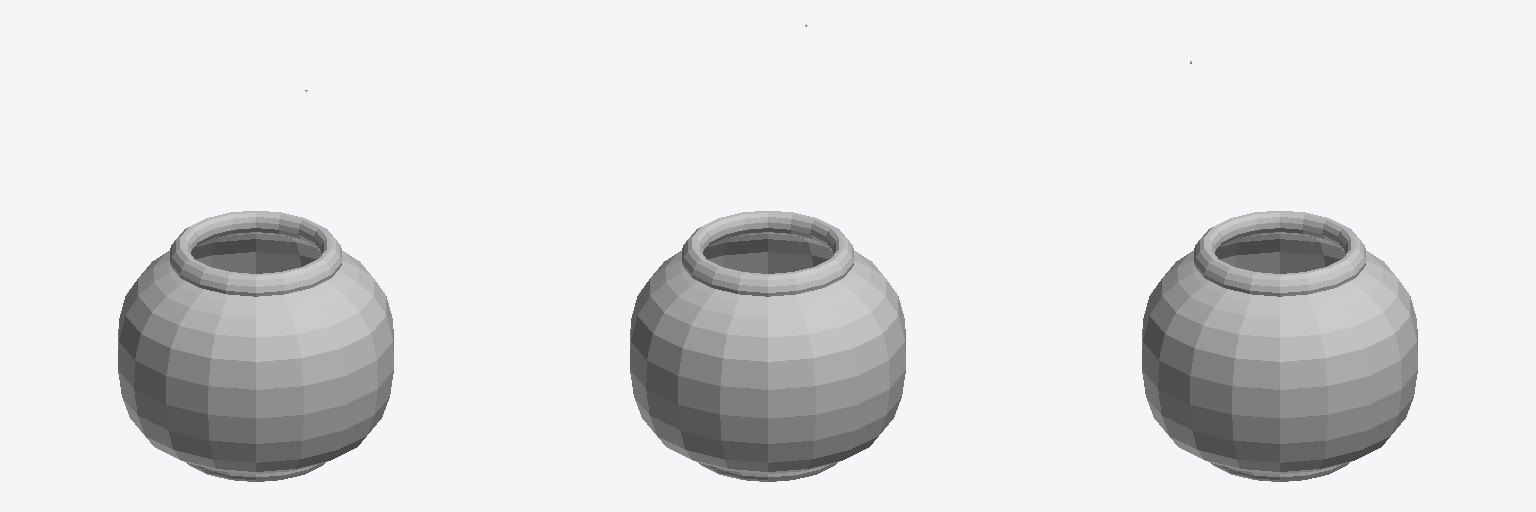
File: finalPositions.obj
3 renders of one model, left to right at view 1: azimuth 30°, elevation 25°; view 2: azimuth 150°, elevation 25°; view 3: azimuth 270°, elevation 25°, orthographic.
Parts seen in each view (by area): view 1: FishBowl; view 2: FishBowl; view 3: FishBowl.
Part boxes in pixels (left/top/right/bottom): FishBowl: left=118, top=211, right=393, bottom=481; FishBowl: left=630, top=211, right=905, bottom=481; FishBowl: left=1142, top=211, right=1417, bottom=481.
Bounding box in the file's own units: 19.55 × 30.28 × 19.19.